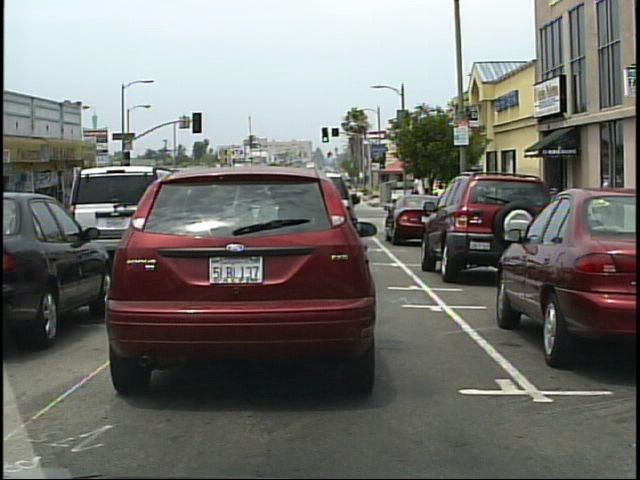person: (406, 188, 417, 221), (413, 188, 423, 220)
